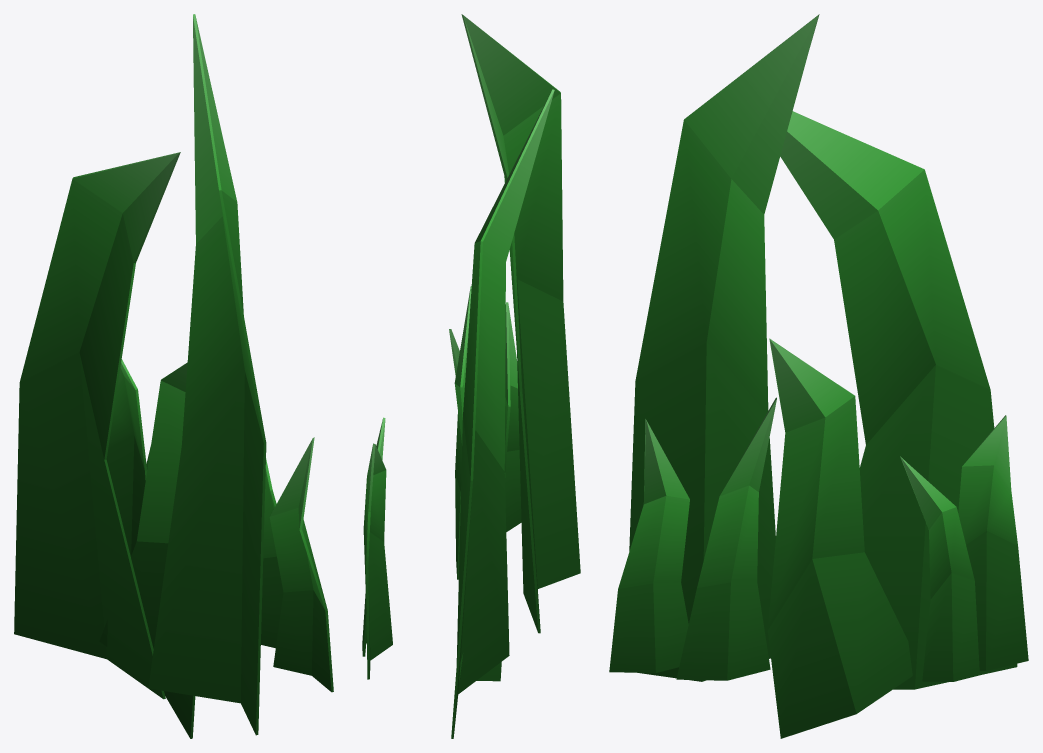
File: Grass-1-3.fbx
The picture shows the model from 3 angles, left to right: view 1: azimuth 30°, elevation 25°; view 2: azimuth 150°, elevation 25°; view 3: azimuth 270°, elevation 25°; orthographic projection. The views are drawn at different scales.
Parts seen in each view (by area): view 1: Grass-1-3; view 2: Grass-1-3; view 3: Grass-1-3.
Boxes of the visible parts, x1=… form: Grass-1-3: x1=14, y1=14, x2=333, y2=738; Grass-1-3: x1=362, y1=14, x2=580, y2=738; Grass-1-3: x1=609, y1=14, x2=1028, y2=738.
Bounding box in the file's own units: 24.75 × 116 × 60.17.
